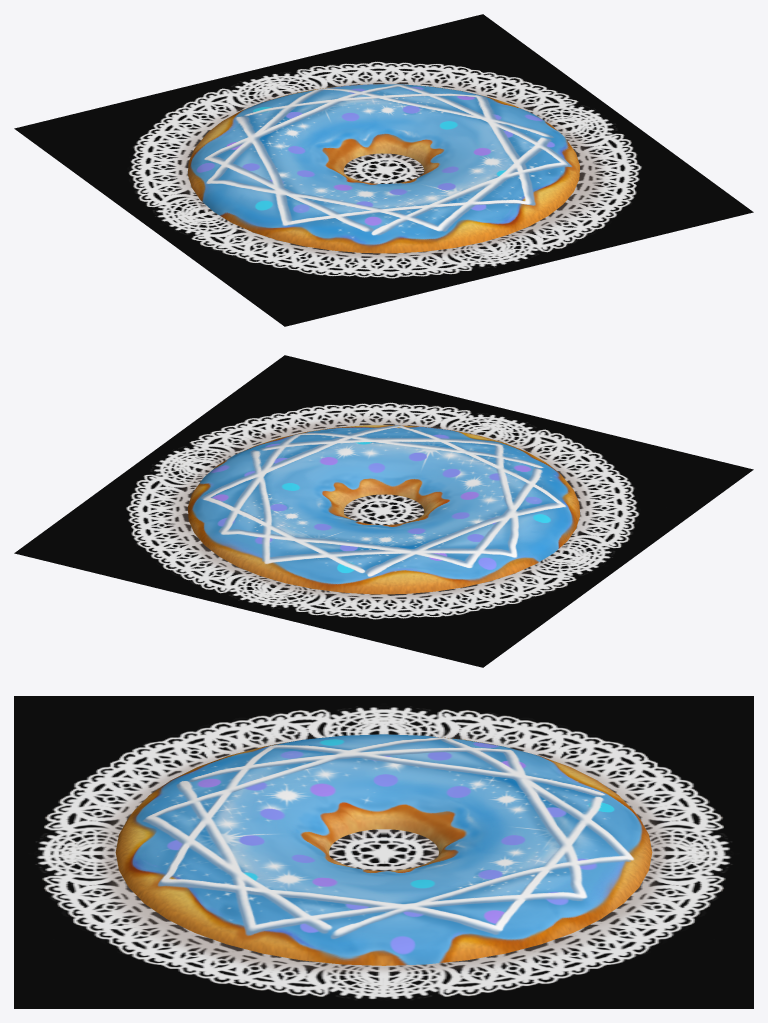
The model's file is WarpD.fbx.
3 views of the same model, one above another, from view 1: azimuth 30°, elevation 25°; view 2: azimuth 150°, elevation 25°; view 3: azimuth 270°, elevation 25° (orthographic). The views are drawn at different scales.
Parts seen in each view (by area): view 1: pPlane1, WarpA; view 2: pPlane1, WarpA; view 3: pPlane1, WarpA.
Boxes of the visible parts, x1,y1,x2,y2 form: pPlane1: (14, 14, 753, 326); WarpA: (188, 84, 579, 253); pPlane1: (14, 355, 753, 667); WarpA: (188, 425, 579, 594); pPlane1: (14, 696, 753, 1008); WarpA: (115, 734, 652, 965).
Size of the model in its own units: 4.6 by 0.1541 by 4.6.
